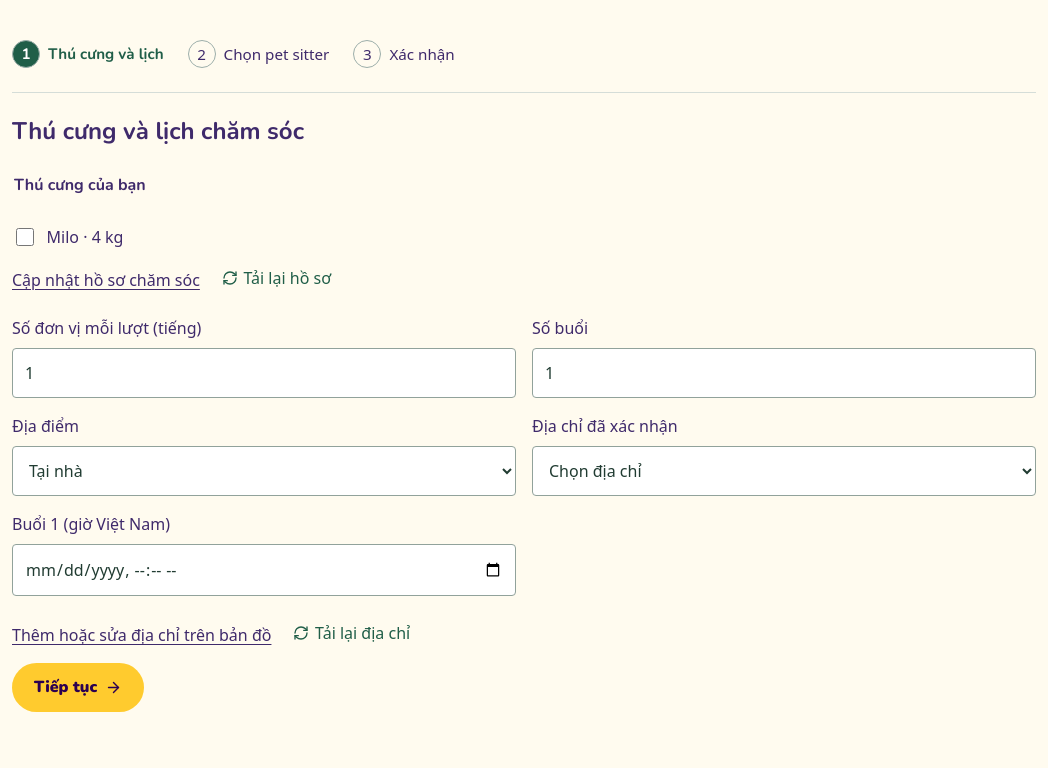
Test: quote policy review failure explains why no booking was created and keeps the pet selection
Click the checkbox labelled "Milo · 4 kg" at point(25, 237), box top-left (16, 228), bottom-right (34, 246)
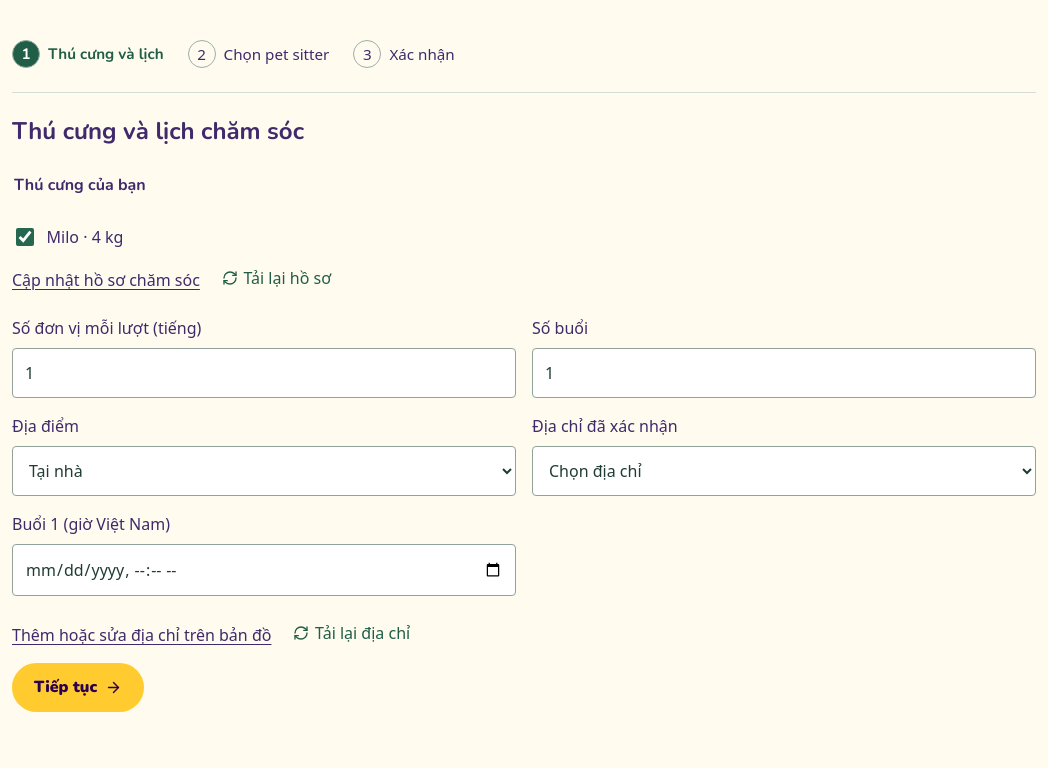
Select "Nhà đã xác nhận" in the dropdown labelled "Địa chỉ đã xác nhận" at point(784, 471), box top-left (532, 446), bottom-right (1036, 496)
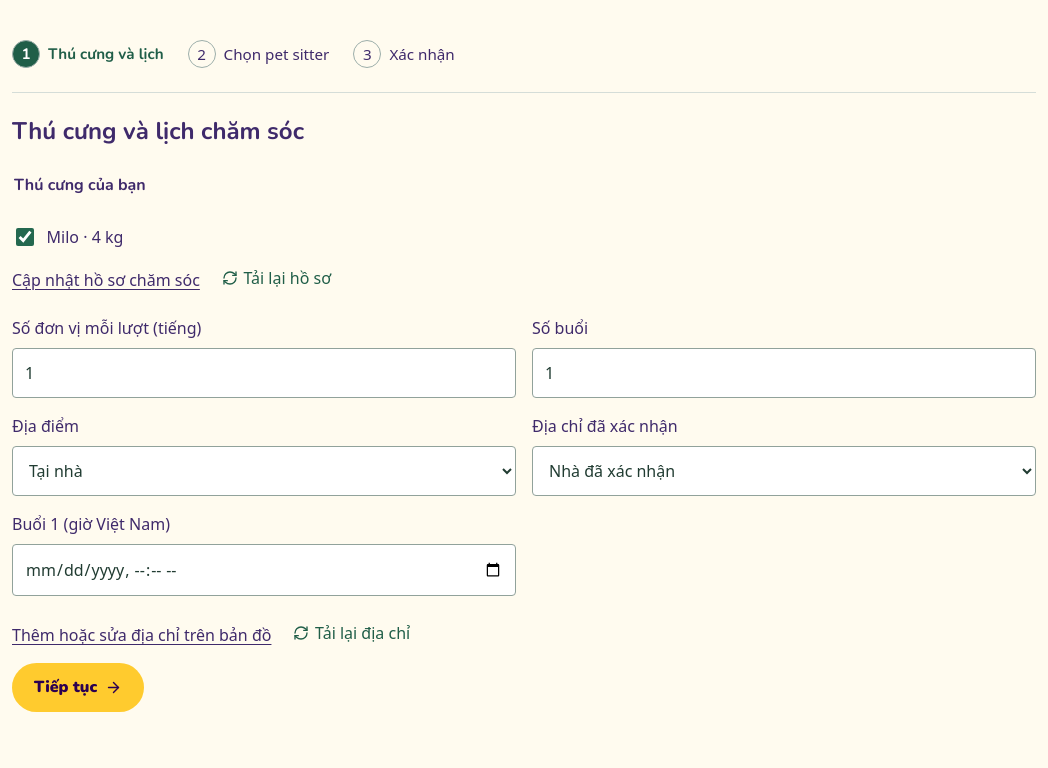
Type "2098-11-03T09:00" into the field labelled "Buổi 1 (giờ Việt Nam)" at point(264, 570), box top-left (12, 544), bottom-right (516, 596)
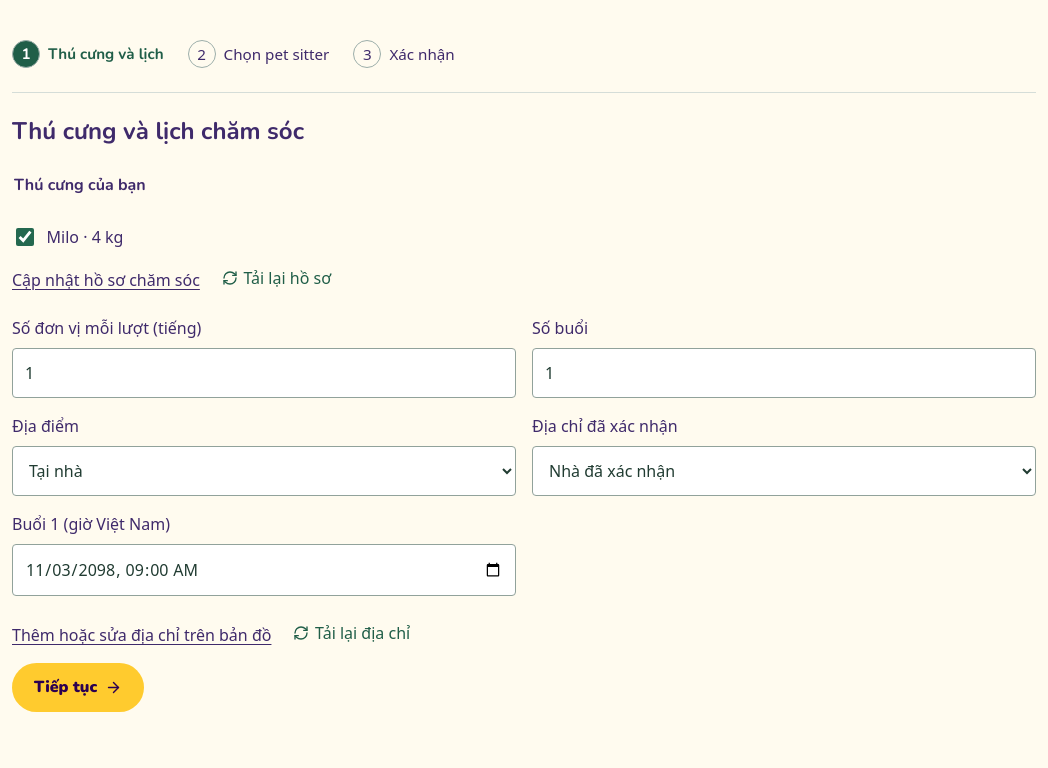
Submit the text "Tiếp tục"
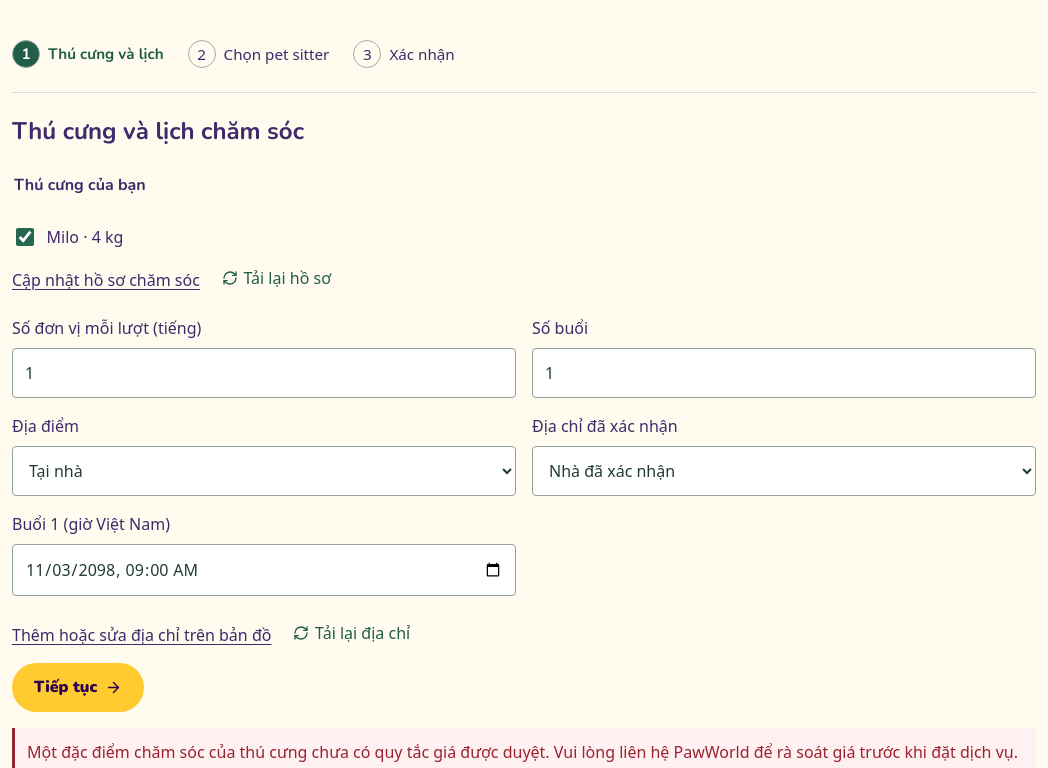
Expected: the checkbox labelled "Milo · 4 kg" is checked, top-left (16, 228), bottom-right (34, 246)
Expected: the message shows "chưa có quy tắc giá được duyệt", top-left (27, 741), bottom-right (1018, 763)
